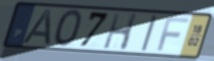7: (77, 11, 111, 49)
A: (20, 8, 53, 47)
F: (155, 16, 191, 53)
H: (101, 13, 140, 52)
I: (139, 14, 159, 53)
O: (52, 8, 84, 49)
